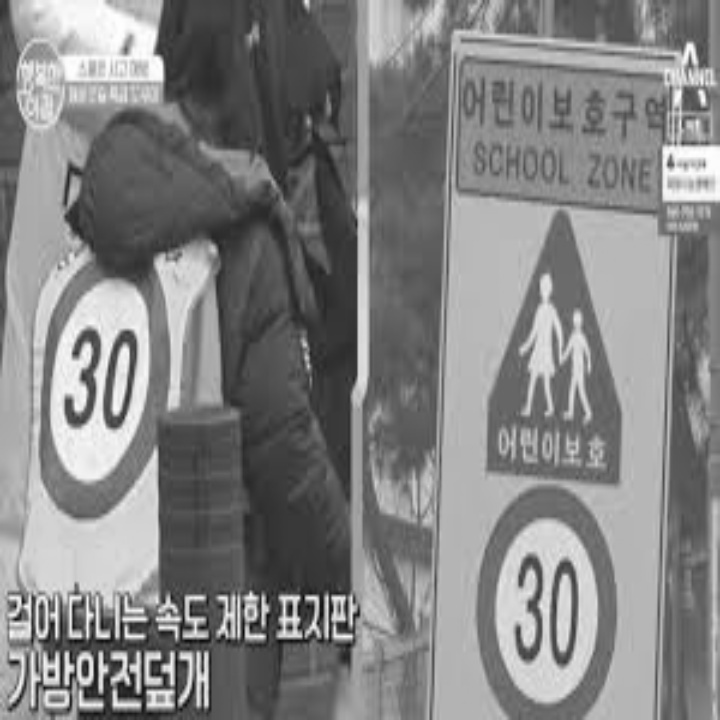child: (497, 248, 597, 428)
